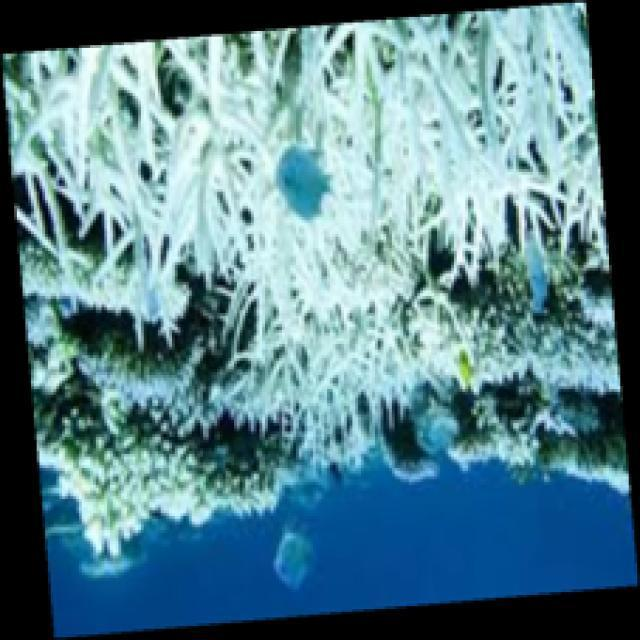Bleached: (1, 1, 613, 297), (22, 289, 625, 402), (27, 395, 284, 561), (444, 380, 640, 496), (279, 387, 417, 489)
